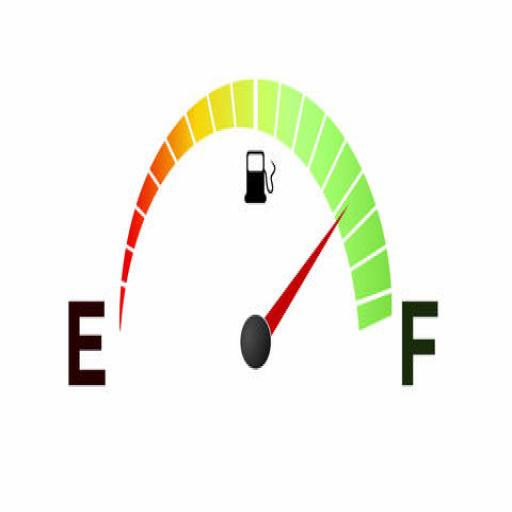empty: (64, 289, 106, 393)
fuel_icon: (243, 142, 277, 209)
full: (400, 296, 440, 392)
guage_area: (49, 72, 445, 426)
needle_center: (241, 302, 278, 382)
needle_tip: (321, 194, 352, 238)
